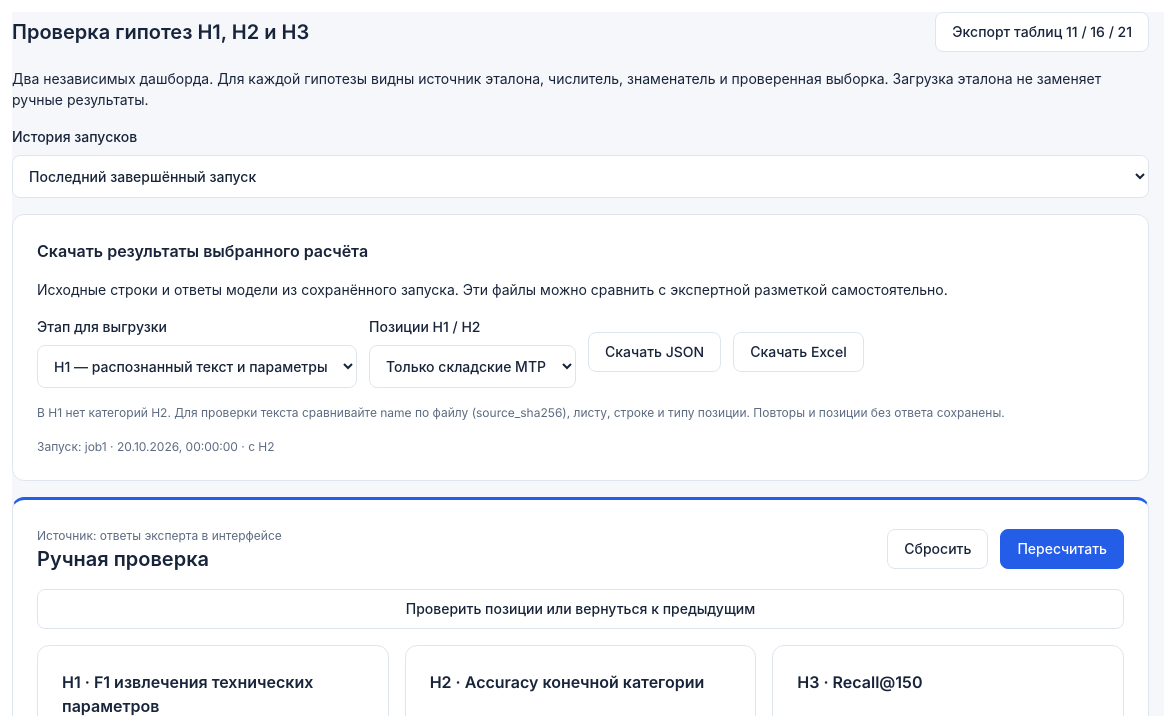
Scenario: exports the selected historical run and separately selects requirement rows
The image size is (1164, 716).
Later steps or results of the test are not shown.
Click the button "Скачать JSON" at {"x": 655, "y": 352}, box [588,332,721,372]
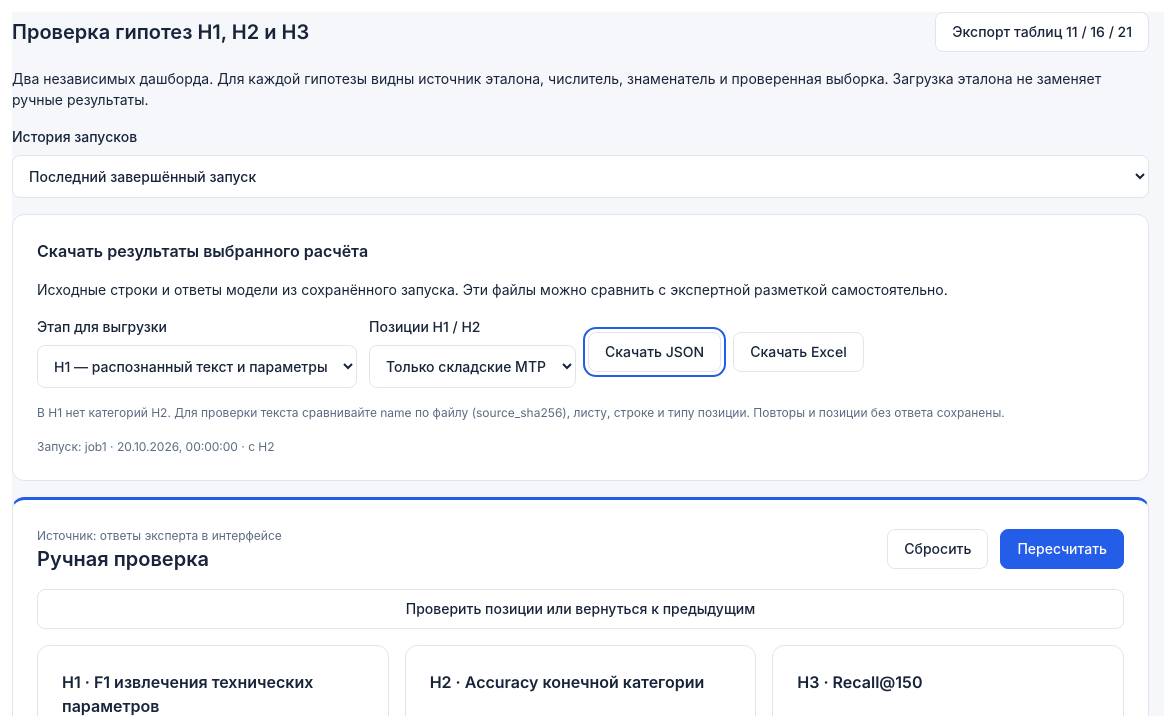
Select "01.10.2026, 00:00:00 · normalize · old" in the dropdown labelled "История запусков" at {"x": 580, "y": 176}, box [12,155,1149,198]
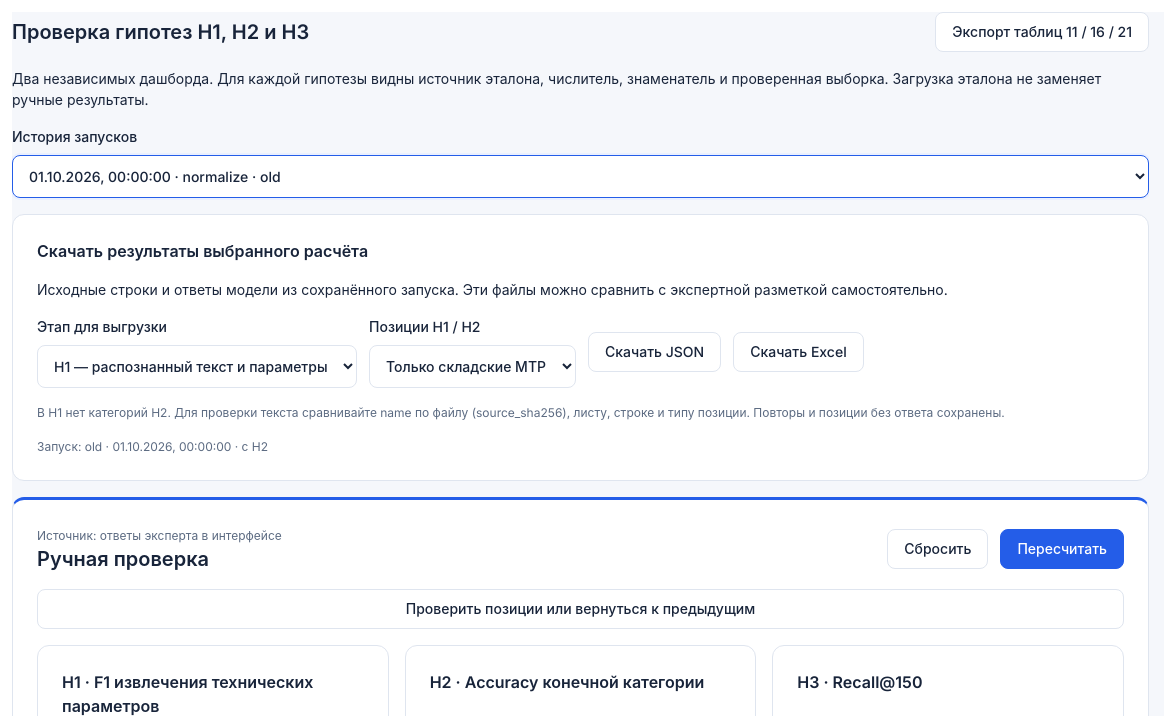
Expected: the text "Запуск: old · 01.10.2026, 00:00:00 · с H2" is shown, [37,439,268,454]
